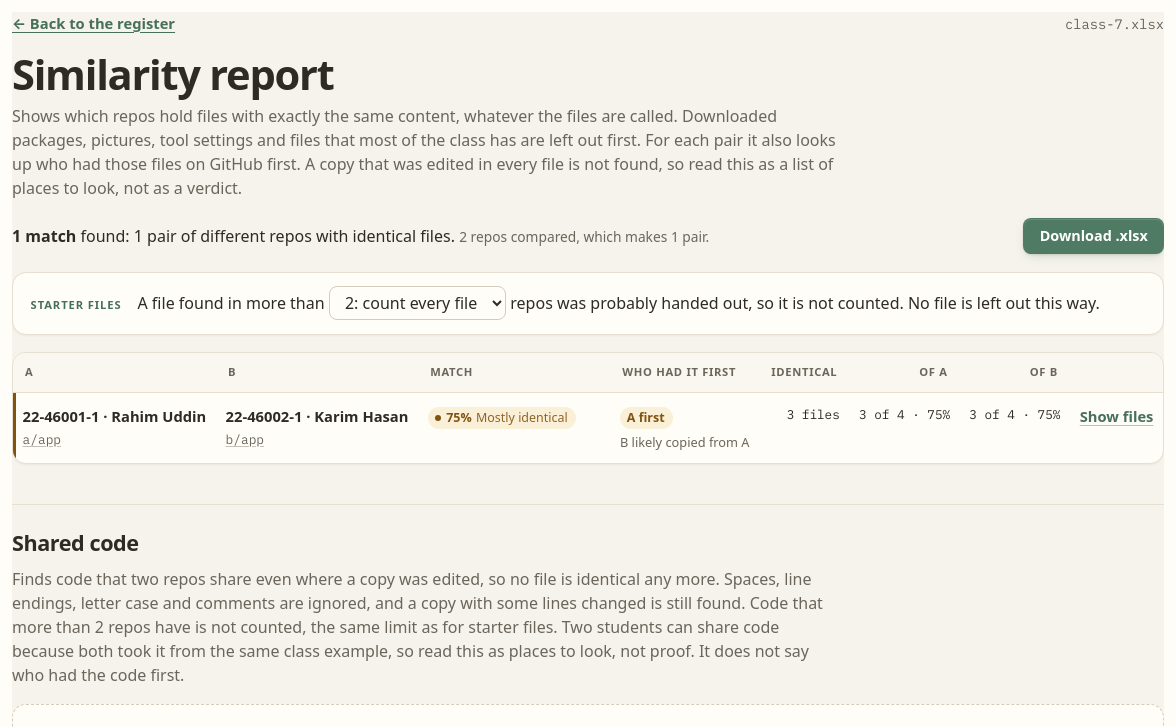
it: who had it first › names the repo that pushed the files first, and shows how it knows
The width and height of the screenshot is (1176, 727).
Expected: the column heading "Who had it first" is shown, [610,353,759,393]
Expected: the cell "A first B likely copied from A" is shown, [610,393,759,463]
Click the button "Show files": (1117, 416) [1080,405,1153,427]
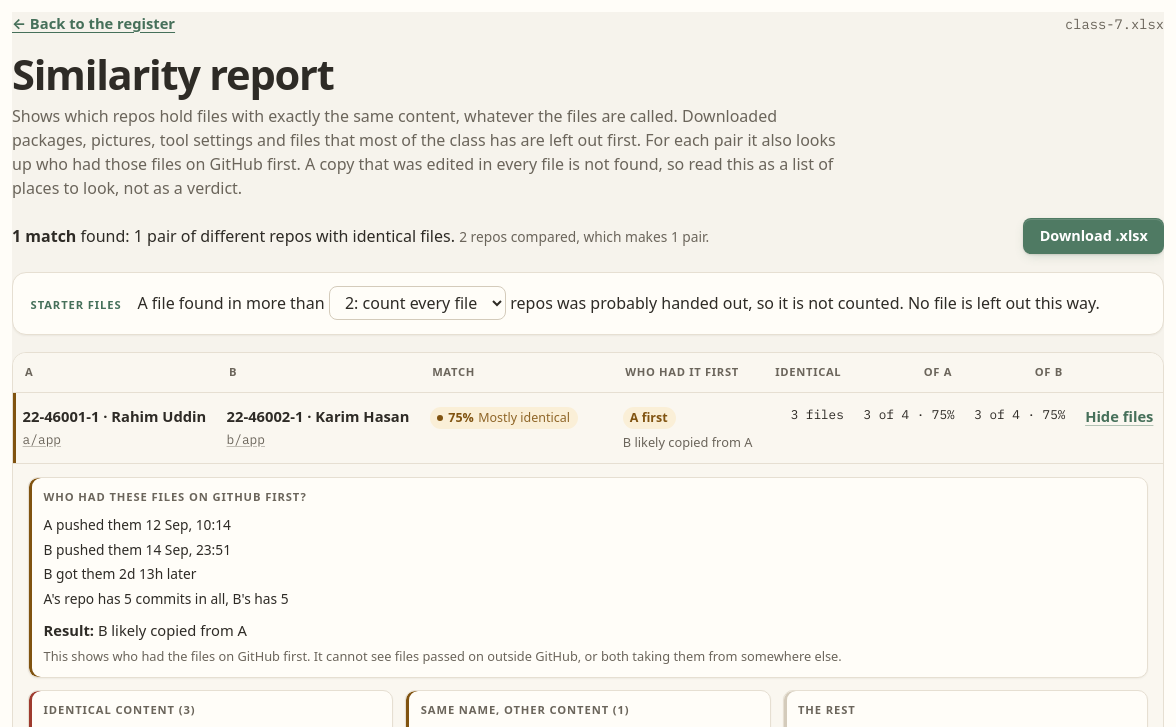
Expected: the element showing "Result: B likely copied from A" is shown, [44,620,247,640]
Expected: the text "This shows who had the files on GitHub first. It cannot see files passed on outside GitHub, or both taking them from som" is shown, [44,647,842,665]
Expected: the heading "Identical content (3)" is shown, [44,702,195,717]
